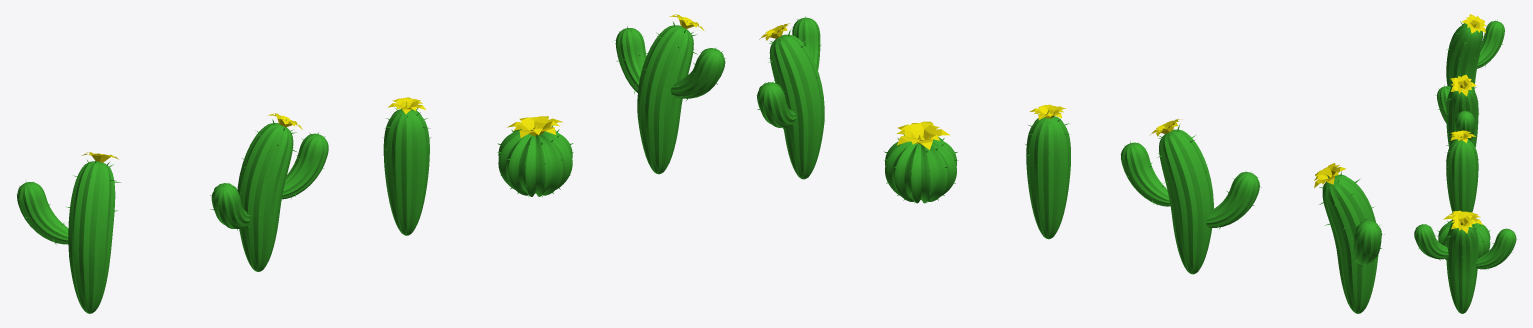
File: 仙人掌.fbx
The picture shows the model from 3 angles, left to right: view 1: azimuth 30°, elevation 25°; view 2: azimuth 150°, elevation 25°; view 3: azimuth 270°, elevation 25°; orthographic projection. The views are drawn at different scales.
Parts seen in each view (by area): view 1: 仙人掌3_1, 仙人掌4_1, 仙人掌2, 仙人掌1_1, 仙人掌5_1; view 2: 仙人掌4_1, 仙人掌3_1, 仙人掌2, 仙人掌1_1, 仙人掌5_1; view 3: 仙人掌3_1, 仙人掌2, 仙人掌1_1, 仙人掌4_1, 仙人掌5_1.
Boxes of the visible parts, x1,y1,x2,y2 form: 仙人掌3_1: [614, 14, 725, 174]; 仙人掌4_1: [210, 113, 328, 271]; 仙人掌2: [16, 152, 121, 313]; 仙人掌1_1: [383, 97, 431, 235]; 仙人掌5_1: [497, 116, 573, 197]; 仙人掌4_1: [1120, 119, 1261, 274]; 仙人掌3_1: [756, 16, 824, 179]; 仙人掌2: [1314, 163, 1384, 313]; 仙人掌1_1: [1025, 104, 1070, 239]; 仙人掌5_1: [884, 121, 958, 203]; 仙人掌3_1: [1414, 212, 1516, 313]; 仙人掌2: [1446, 14, 1504, 87]; 仙人掌1_1: [1446, 130, 1478, 212]; 仙人掌4_1: [1435, 74, 1479, 147]; 仙人掌5_1: [1437, 210, 1490, 260].
Size of the model in its own units: 181 by 40 by 35.68.
